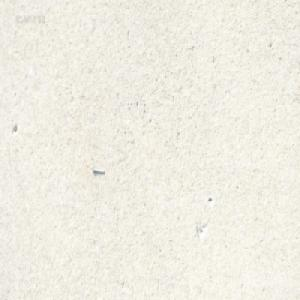Nail: (91, 164, 105, 173)
